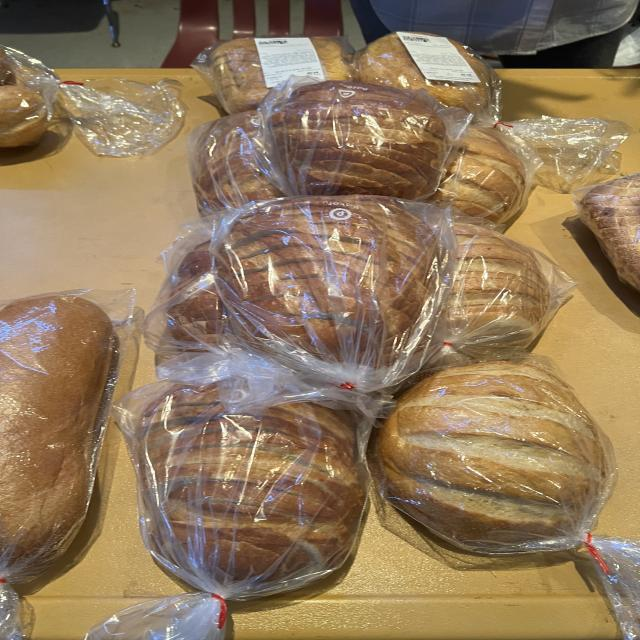Bread: (375, 355, 640, 640), (85, 380, 370, 640), (212, 195, 455, 391), (355, 31, 630, 192), (0, 289, 135, 582), (260, 78, 472, 200), (0, 46, 185, 156), (445, 221, 577, 358), (192, 36, 353, 114), (143, 216, 227, 364), (430, 126, 542, 224), (187, 110, 285, 215), (572, 172, 640, 290)
